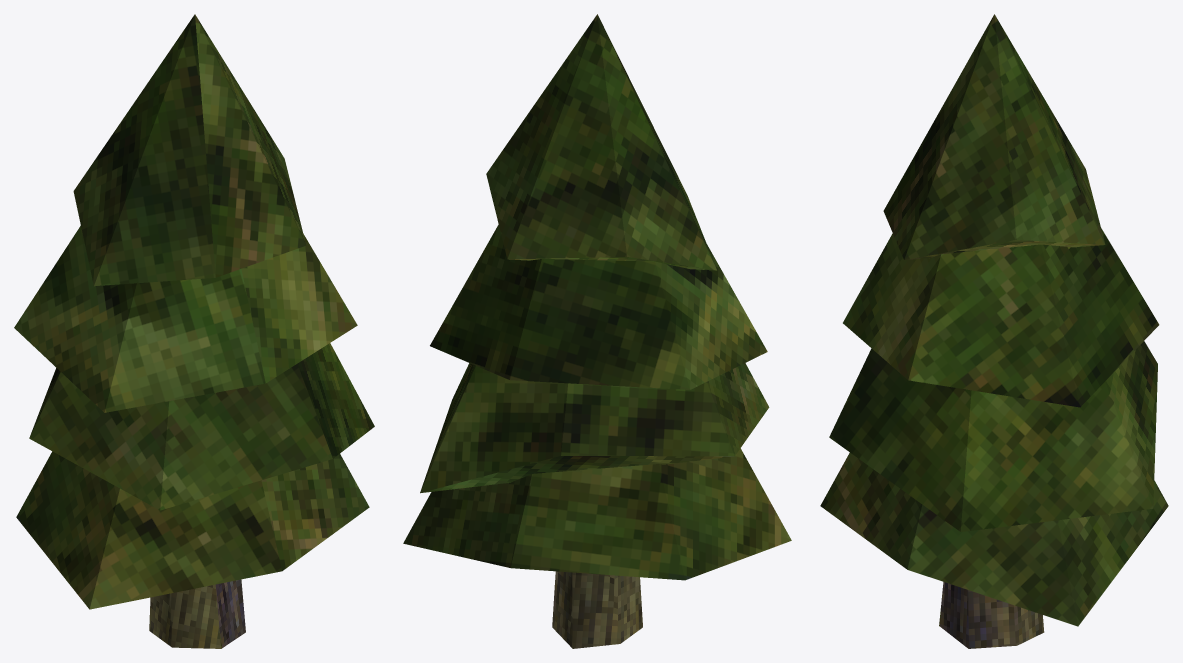
The model's file is tree.fbx.
3 renders of one model, left to right at view 1: azimuth 30°, elevation 25°; view 2: azimuth 150°, elevation 25°; view 3: azimuth 270°, elevation 25°, orthographic.
Parts seen in each view (by area): view 1: Cylinder; view 2: Cylinder; view 3: Cylinder.
Boxes of the visible parts, x1,y1,x2,y2 form: Cylinder: [14, 14, 374, 648]; Cylinder: [403, 14, 791, 648]; Cylinder: [820, 14, 1168, 648].
Bounding box in the file's own units: 154 × 289 × 148.
Materials: 1 (1 with a texture image).
